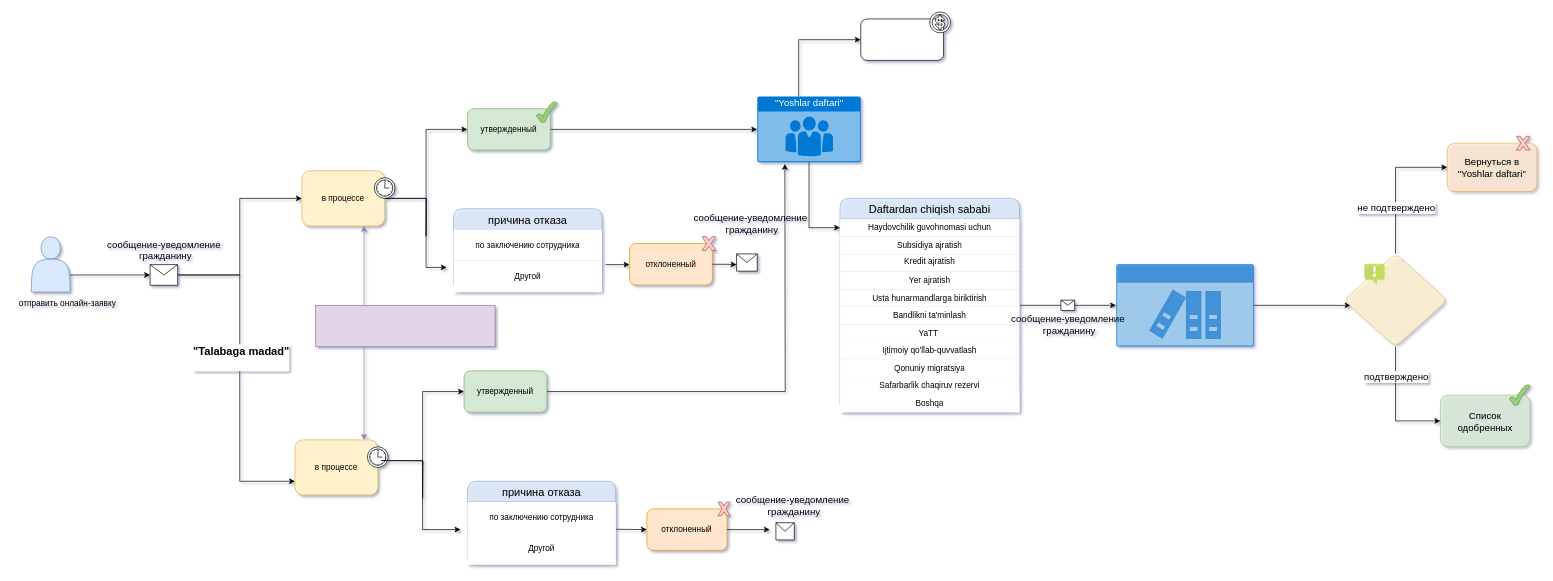
This 1553x581 diagram has some shape labels left out. Each missing label, with the box of its shape:
Единовременная помощь: (860, 18, 944, 60)
Руководитель районного сектора заявки от одобрено / отклонено: (315, 305, 495, 347)
Удалено из "Yoshlar daftari": (1116, 264, 1254, 346)
Утверждение руководителя регионального сектора: (1343, 253, 1447, 347)
